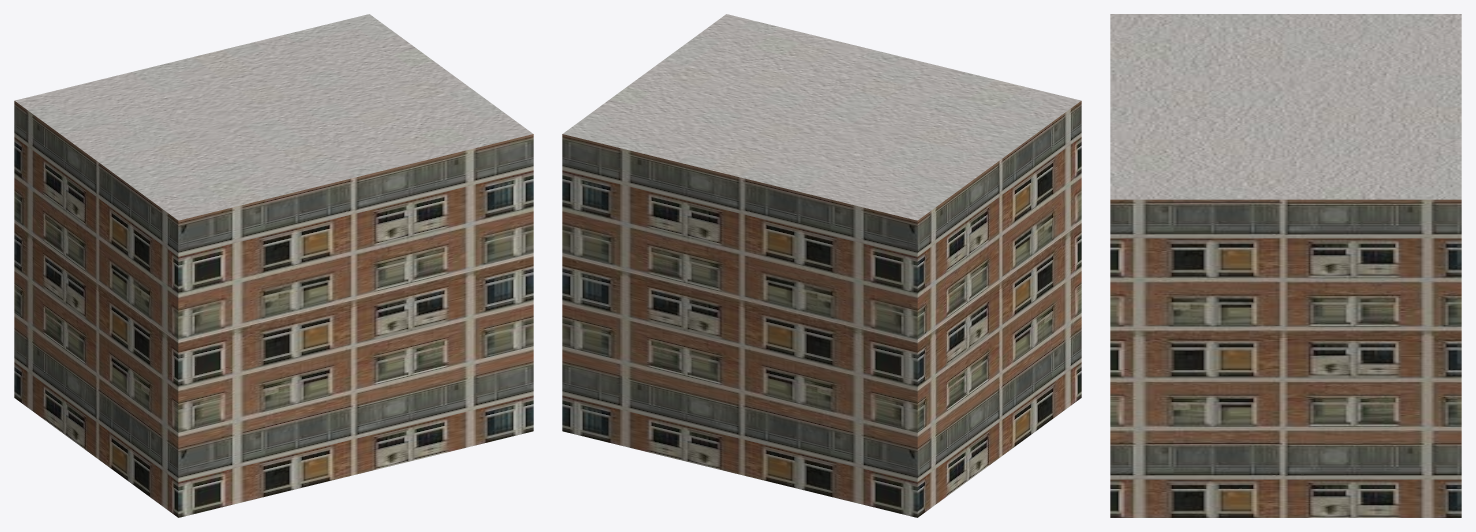
Rendered from building_008.fbx.
3 views of the same model, side by side, from view 1: azimuth 30°, elevation 25°; view 2: azimuth 150°, elevation 25°; view 3: azimuth 270°, elevation 25° (orthographic). The views are drawn at different scales.
Visible parts, largest first — view 1: building_008; view 2: building_008; view 3: building_008.
Boxes of the visible parts, left/top/right/bottom form: building_008: left=14, top=14, right=533, bottom=517; building_008: left=562, top=14, right=1081, bottom=517; building_008: left=1110, top=14, right=1461, bottom=517.
Bounding box in the file's own units: 1500 × 1200 × 1200.
